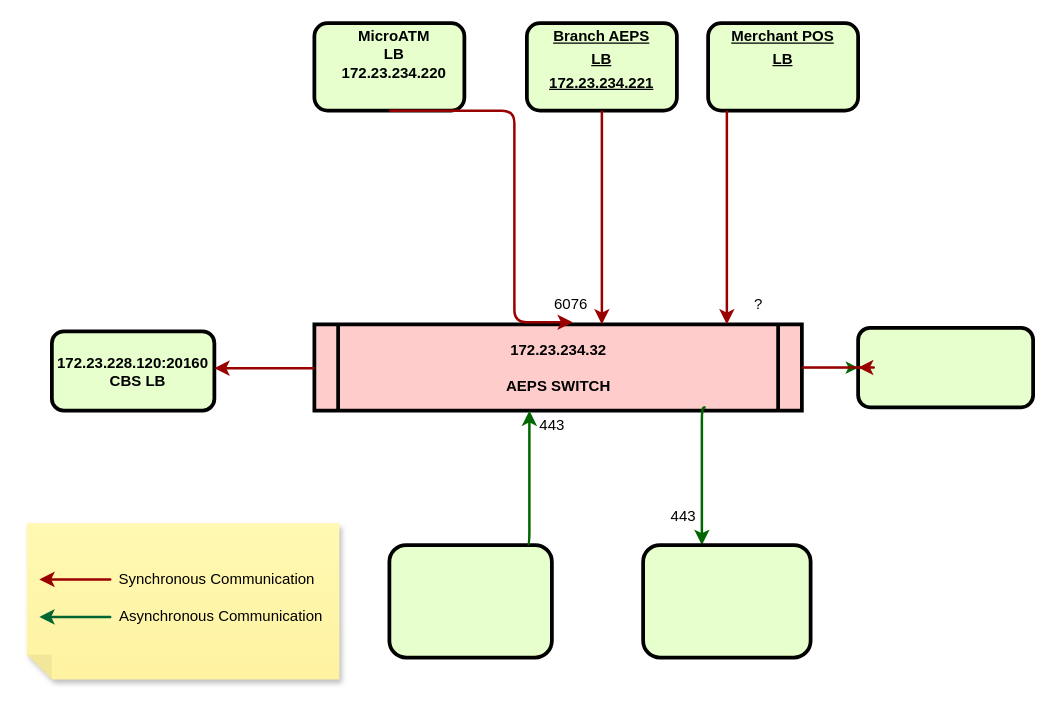
This 1056x710 diagram has some shape labels left out. The shapes that lost their labels are listed below. From the top down, each one's centre as x and y in pixels, then its label:
[945,366]: SWITCH DATABASE
[470,600]: Sender NPCI AEPS SWITCH 192.168.62.16
[726,600]: Receiver NPCI AEPS SWITCH 192.168.62.17
